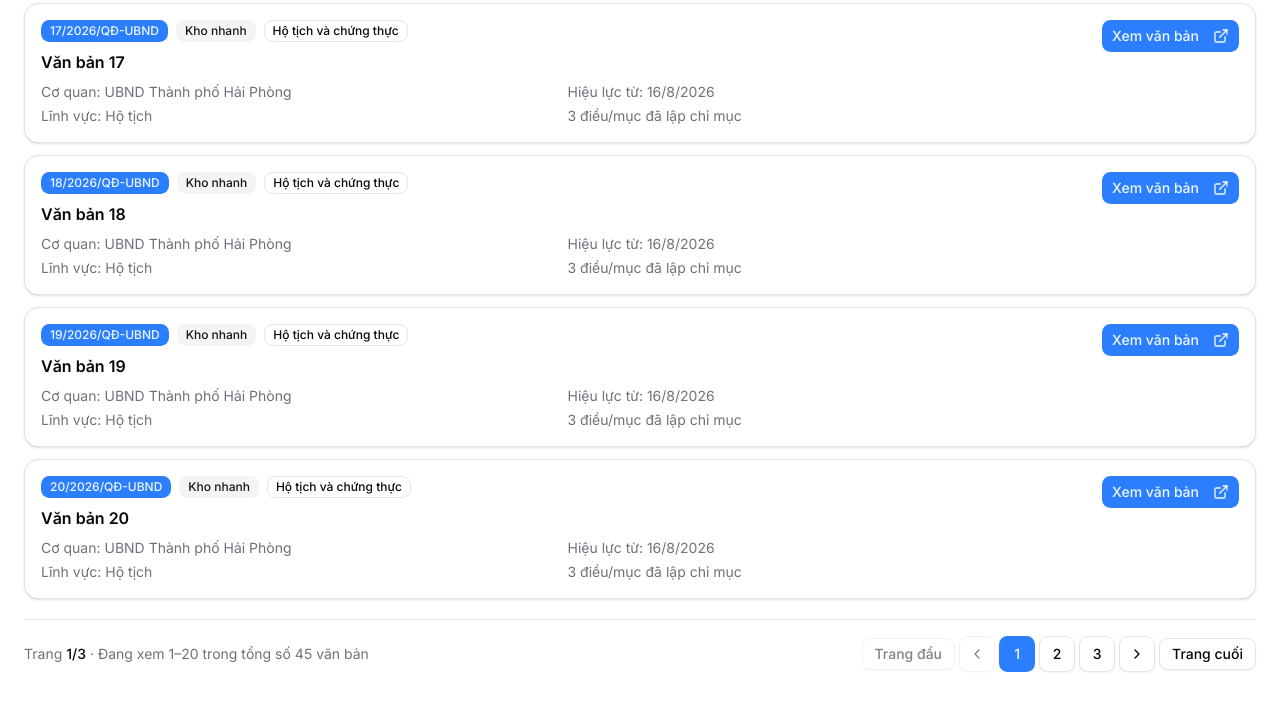
SourcesPage › loads exactly 20 documents per server page and replaces page content
This screenshot has width=1280, height=720.
(page scrolled)
Check: the heading "Văn bản 20" is shown, box [41,508,129,528]
What coordinates should you click on to do the following:
click the button named "Trang sau"
I would click on:
 (1137, 654)
Its box is [1119,636,1155,672].
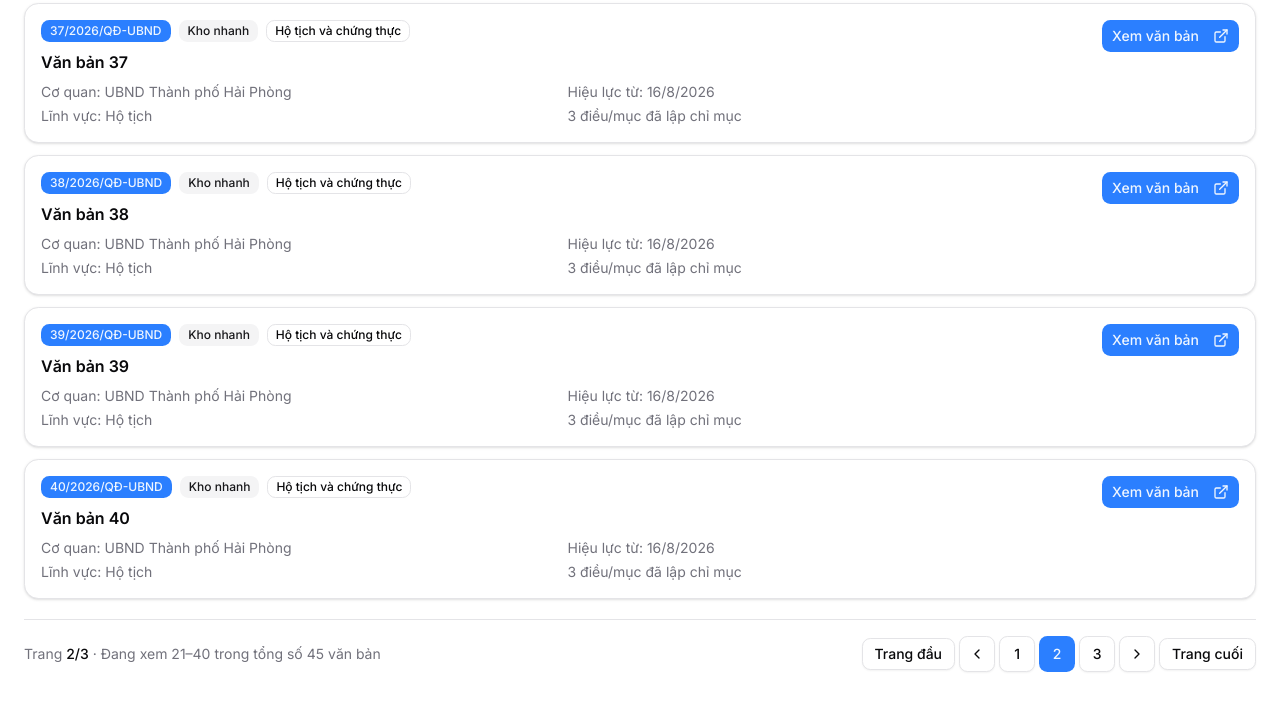
Check: the button named "Trang 2" is shown, box [1039,636,1075,672]
Check: the heading "Văn bản 40" is shown, box [41,508,130,528]
Check: the heading "Văn bản 1" is gone
